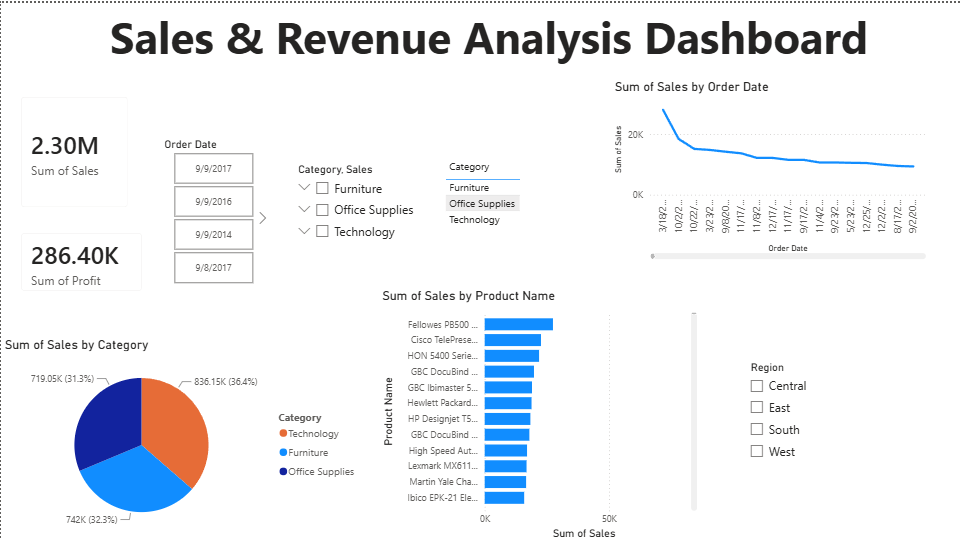

The page's visual inventory and layout, read from the dashboard file:
{"tool":"powerbi","page":{"name":"Page 1","canvas":[1280,720],"ordinal":0},"visuals":[{"type":"cardVisual","fields":{"Data":["Sum(Sample - Superstore.Sales)"]},"box":[10,108.3,176.7,181.7],"z":0},{"type":"cardVisual","fields":{"Data":["Sum(Sample - Superstore.Profit)"]},"box":[10,290,195,111.7],"z":1},{"type":"lineChart","fields":{"Category":["Sample - Superstore.Order Date"],"Y":["Sum(Sample - Superstore.Sales)"]},"box":[813.3,101.7,425,245],"z":2},{"type":"clusteredBarChart","fields":{"Category":["Sample - Superstore.Product Name"],"Y":["Sum(Sample - Superstore.Sales)"]},"box":[503.3,380,430,340],"z":3},{"type":"slicer","fields":{"Values":["Sample - Superstore.Category","Sample - Superstore.Sales"]},"box":[383.3,208.3,238.3,165],"z":4},{"type":"slicer","fields":{"Values":["Sample - Superstore.Region"]},"box":[986.7,471.7,263.3,156.7],"z":5},{"type":"tableEx","fields":{"Values":["Sample - Superstore.Category"]},"box":[586.7,201.7,198.3,155],"z":7},{"type":"slicer","fields":{"Values":["Sample - Superstore.Order Date"]},"box":[205,175,155,205],"z":9},{"type":"pieChart","fields":{"Category":["Sample - Superstore.Category"],"Y":["Sum(Sample - Superstore.Sales)"]},"box":[0,445,485,270],"z":10},{"type":"textbox","box":[140,0,1093.3,88.3],"z":11}]}

Visuals, with their boxes in screenshot pixels (x1, y1, x2, y2), scaled from the page's 1280x720 canvas onto the 961x540 screenshot:
cardVisual - Sum(Sample - Superstore.Sales): 8/81/140/218
cardVisual - Sum(Sample - Superstore.Profit): 8/218/154/301
lineChart - Sample - Superstore.Order Date x Sum(Sample - Superstore.Sales): 611/76/930/260
clusteredBarChart - Sample - Superstore.Product Name x Sum(Sample - Superstore.Sales): 378/285/701/539
slicer - Sample - Superstore.Category x Sample - Superstore.Sales: 288/156/467/280
slicer - Sample - Superstore.Region: 741/354/938/471
tableEx - Sample - Superstore.Category: 440/151/589/268
slicer - Sample - Superstore.Order Date: 154/131/270/285
pieChart - Sample - Superstore.Category x Sum(Sample - Superstore.Sales): 0/334/364/536
textbox: 105/0/926/66
